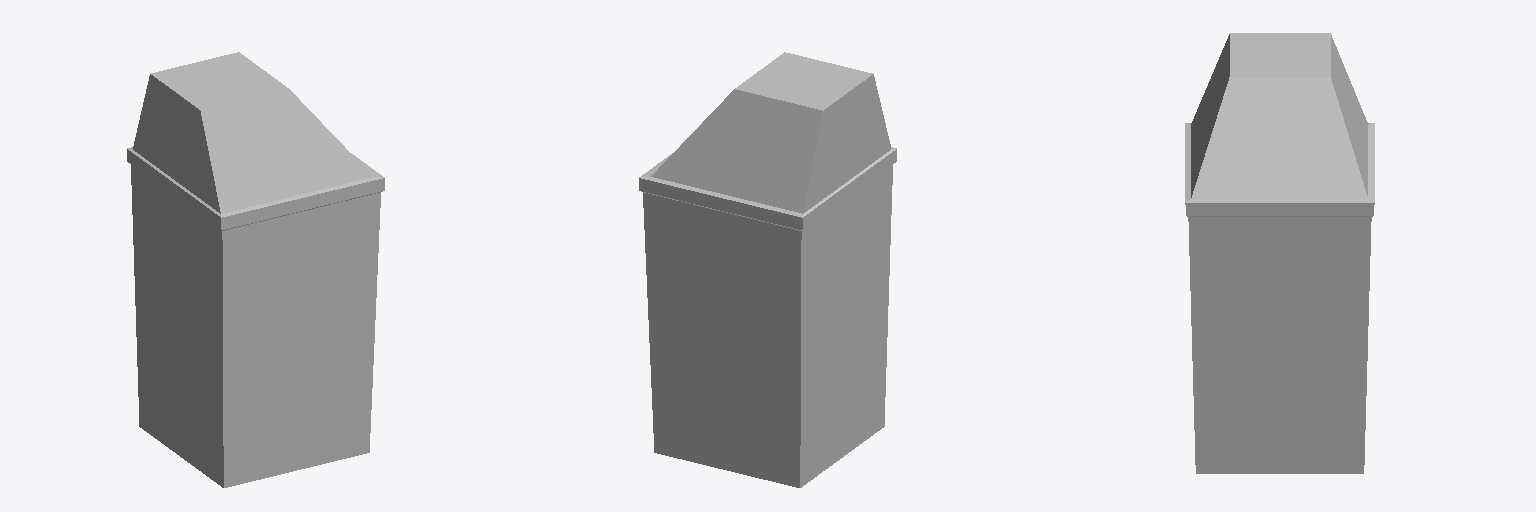
File: poubelle.obj
The picture shows the model from 3 angles: view 1: azimuth 30°, elevation 25°; view 2: azimuth 150°, elevation 25°; view 3: azimuth 270°, elevation 25°; orthographic projection.
Visible parts, largest first — view 1: Cube; view 2: Cube; view 3: Cube.
Boxes of the visible parts, <box> form: Cube: <box>127,52,384,487</box>; Cube: <box>639,52,896,487</box>; Cube: <box>1185,33,1374,473</box>.
Bounding box in the file's own units: 2.06 × 4.42 × 2.06.